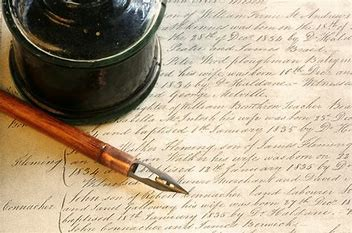pen: (1, 88, 194, 198)
